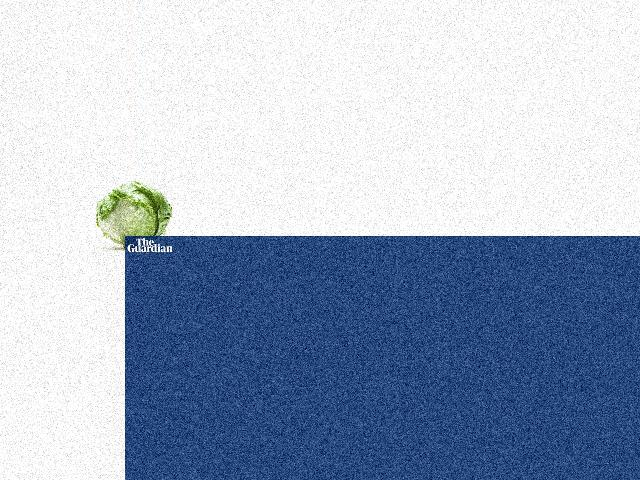lettuce: (96, 177, 170, 244)
